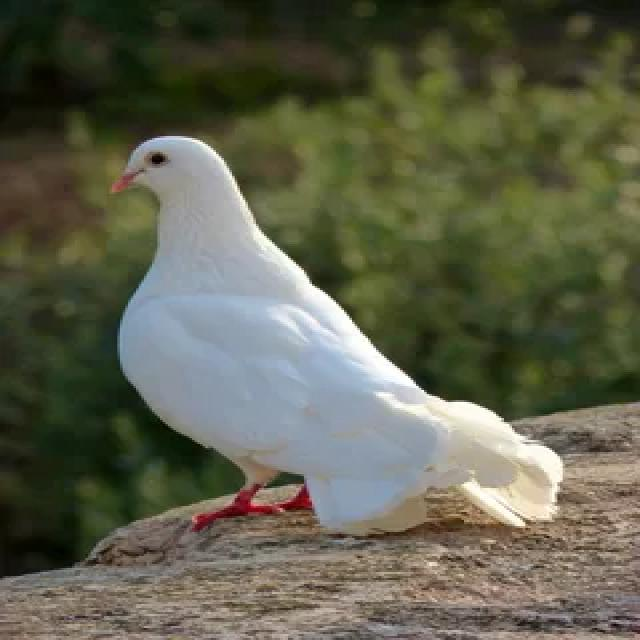pigeon: (92, 122, 574, 555)
